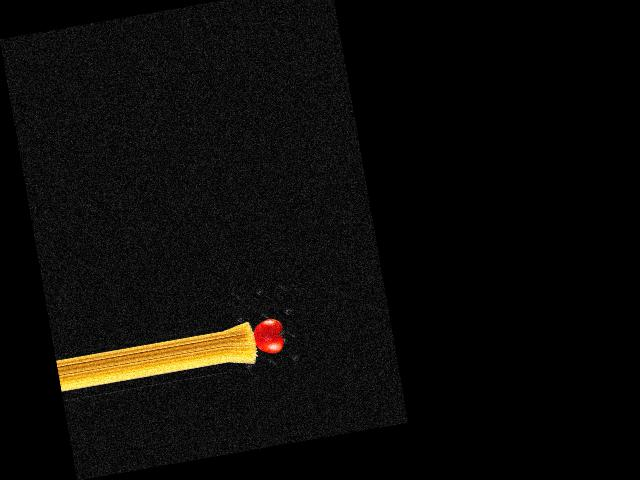tomato: (251, 317, 286, 356)
